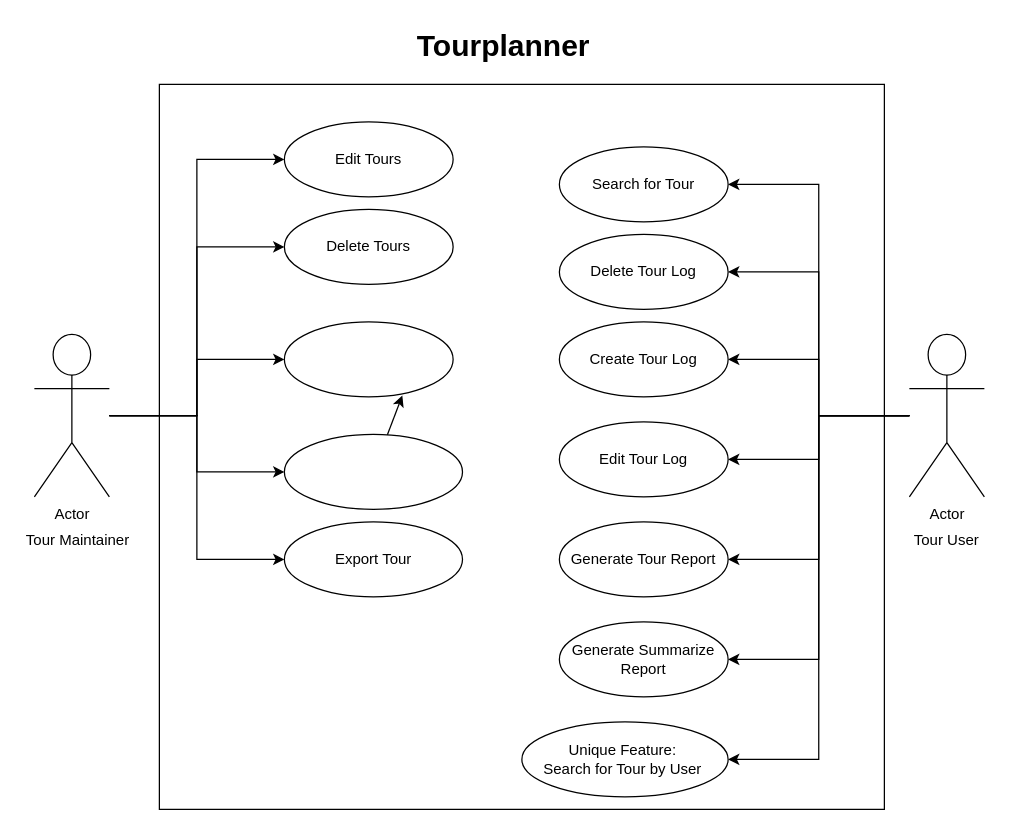
Some shapes in this 1018 by 831 pixel diagram are drawn without their labels. The shapes that lost their labels are listed below. From the top down, each one's centre as x and y in pixels, then its label:
pixel 368 359: Create Tours
pixel 372 471: Import Tour
